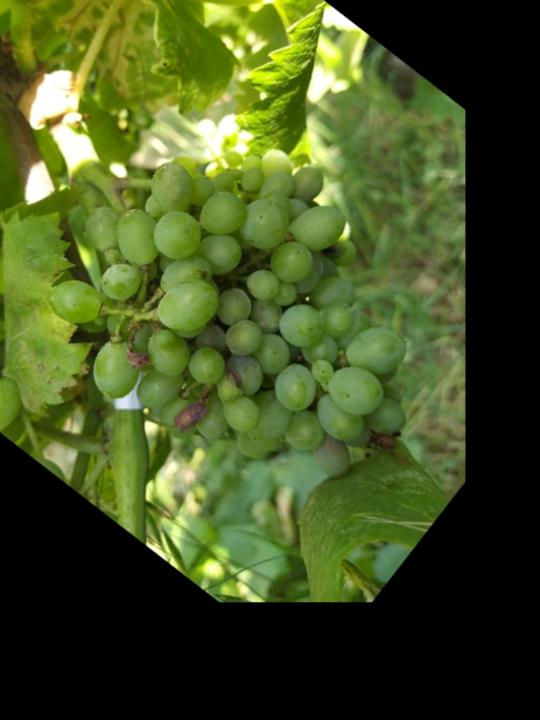grape: (4, 67, 506, 555)
